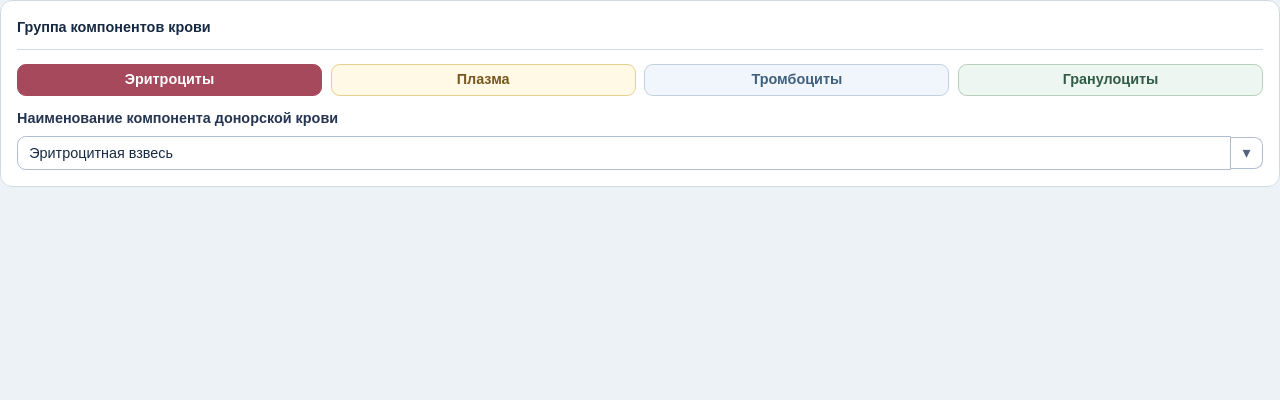
it: offers platelet names without leaking the previous group presets
Click the button "Тромбоциты" at [797, 80], box [644,64,949,96]
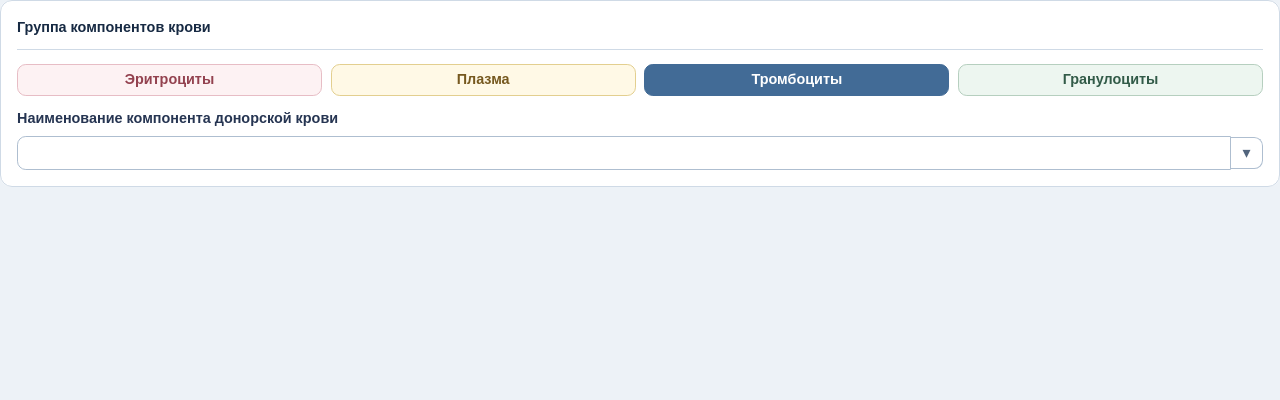
Click the button named "Показать сохранённые варианты: Наименование компонента донорской крови" at [1247, 153], box [1231,137,1263,169]
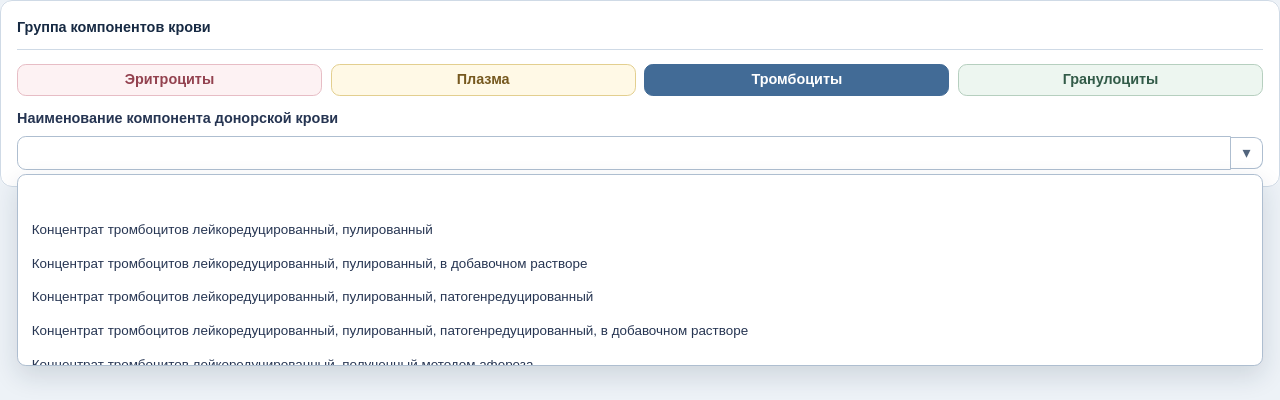
Expected: the button "Эритроцитная взвесь" is not shown
Click the button "Концентрат тромбоцитов лейкоредуцированный, пулированный" at [232, 230], box [23,214,1247,246]
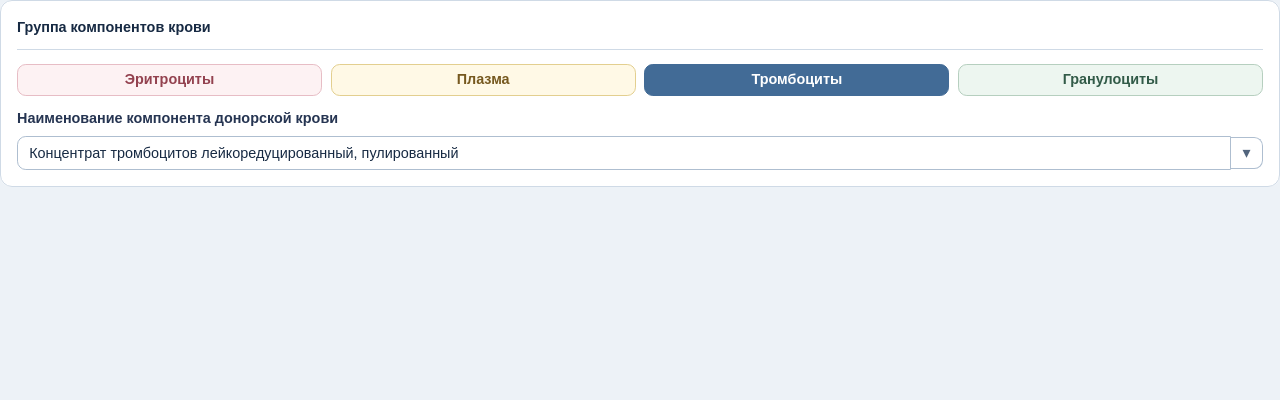
Expected: the field named "Наименование компонента донорской крови" holds "Концентрат тромбоцитов лейкоредуцированный, пулированный", [17,136,1231,170]
